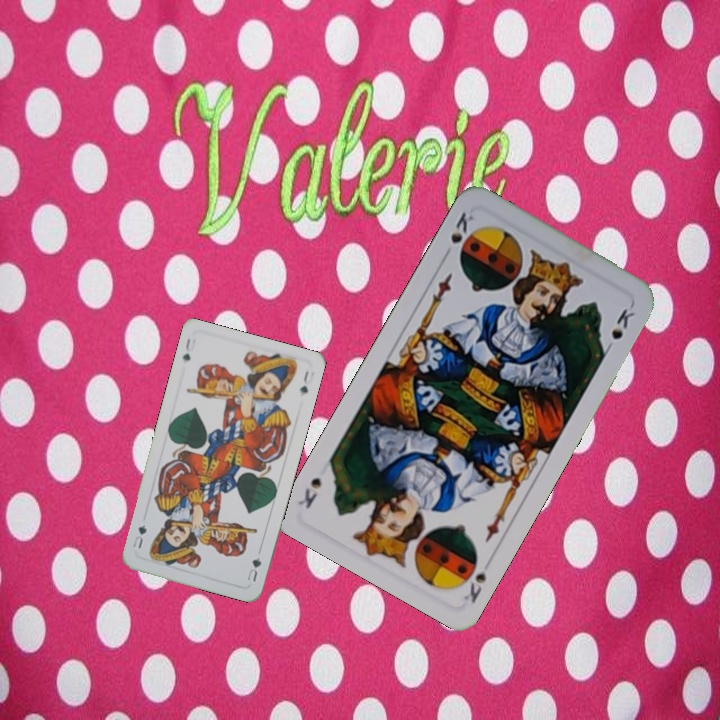GU: (243, 553, 264, 584), (178, 334, 198, 364)
SK: (456, 551, 493, 606), (446, 207, 477, 246)
